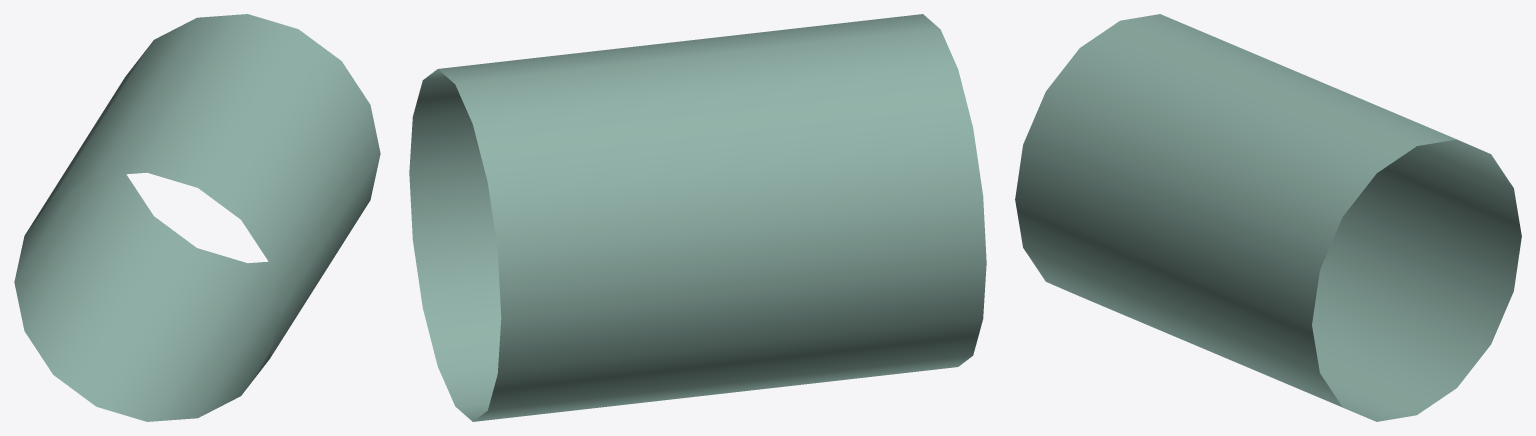
The model's file is PipeLarge_StraightDiagonal_02.fbx.
3 renders of one model, left to right at view 1: azimuth 30°, elevation 25°; view 2: azimuth 150°, elevation 25°; view 3: azimuth 270°, elevation 25°, orthographic. The views are drawn at different scales.
Visible parts, largest first — view 1: PipeLarge_StraightDiagonal_02.001; view 2: PipeLarge_StraightDiagonal_02.001; view 3: PipeLarge_StraightDiagonal_02.001.
Part boxes in pixels (bbox=[...]): PipeLarge_StraightDiagonal_02.001: bbox=[14, 14, 380, 421]; PipeLarge_StraightDiagonal_02.001: bbox=[409, 14, 986, 421]; PipeLarge_StraightDiagonal_02.001: bbox=[1015, 14, 1521, 421].
Size of the model in its own units: 0.3414 by 0.2 by 0.3414.
